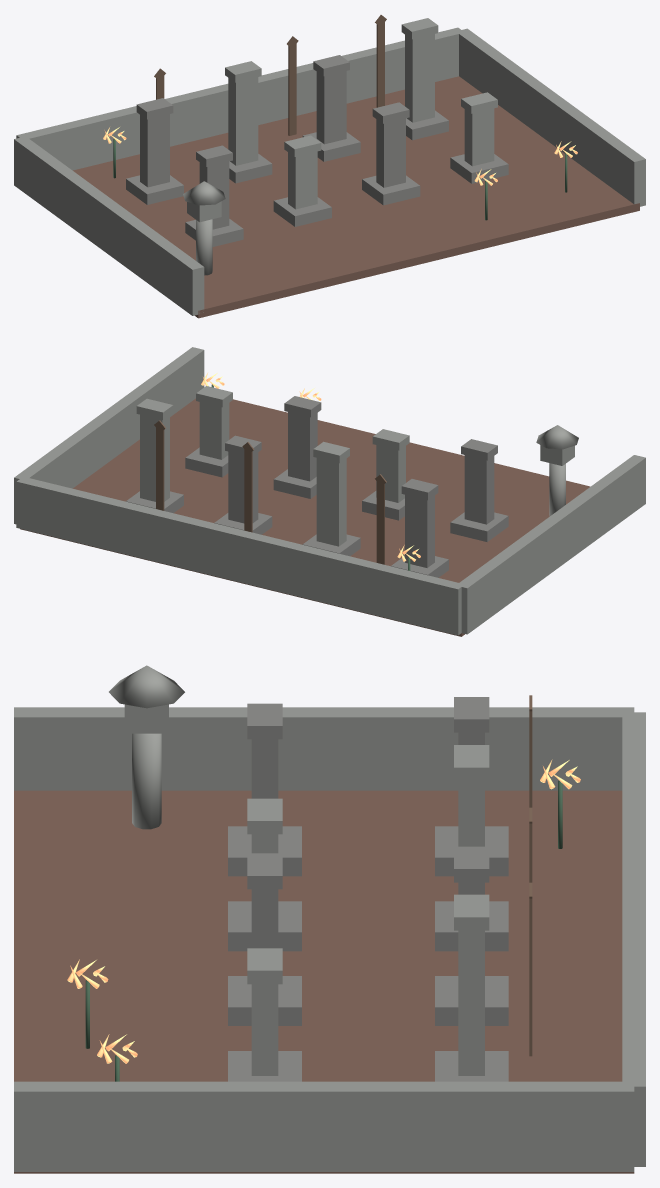
File: prop_bochi.glb
3 views of the same model, one above another, from view 1: azimuth 30°, elevation 25°; view 2: azimuth 150°, elevation 25°; view 3: azimuth 270°, elevation 25° (orthographic). The views are drawn at different scales.
Visible parts, largest first — view 1: bochi; view 2: bochi; view 3: bochi.
Boxes of the visible parts, bbox=[...] form: bochi: bbox=[14, 15, 645, 318]; bochi: bbox=[14, 347, 645, 636]; bochi: bbox=[14, 665, 645, 1173].
Size of the model in its own units: 6.16 by 1.48 by 4.28.
